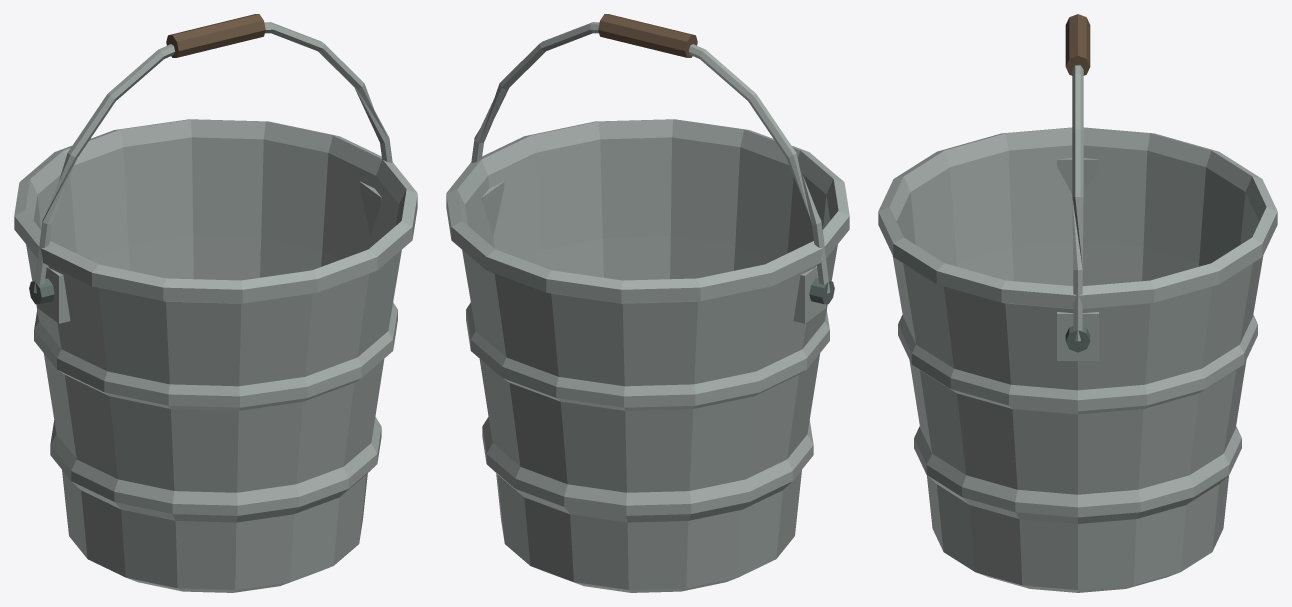
File: galvanized-bucket.glb
3 renders of one model, left to right at view 1: azimuth 30°, elevation 25°; view 2: azimuth 150°, elevation 25°; view 3: azimuth 270°, elevation 25°, orthographic.
Visible parts, largest first — view 1: galvanized-bucket/folded-galvanized-shell, galvanized-bucket/wire-carry-handle, galvanized-bucket/wooden-handle-grip, galvanized-bucket/pressed-handle-mount--1, galvanized-bucket/pressed-handle-mount-1; view 2: galvanized-bucket/folded-galvanized-shell, galvanized-bucket/wire-carry-handle, galvanized-bucket/wooden-handle-grip, galvanized-bucket/pressed-handle-mount--1, galvanized-bucket/pressed-handle-mount-1; view 3: galvanized-bucket/folded-galvanized-shell, galvanized-bucket/wire-carry-handle, galvanized-bucket/pressed-handle-mount-1, galvanized-bucket/wooden-handle-grip, galvanized-bucket/pressed-handle-mount--1.
Part boxes in pixels (box(x1,y1,x2,y2)): galvanized-bucket/folded-galvanized-shell: box(14, 119, 417, 592); galvanized-bucket/wire-carry-handle: box(33, 22, 392, 293); galvanized-bucket/wooden-handle-grip: box(166, 14, 265, 57); galvanized-bucket/pressed-handle-mount--1: box(37, 266, 70, 323); galvanized-bucket/pressed-handle-mount-1: box(359, 181, 381, 235); galvanized-bucket/folded-galvanized-shell: box(446, 119, 849, 592); galvanized-bucket/wire-carry-handle: box(471, 22, 830, 293); galvanized-bucket/wooden-handle-grip: box(598, 14, 697, 57); galvanized-bucket/pressed-handle-mount--1: box(793, 266, 826, 323); galvanized-bucket/pressed-handle-mount-1: box(482, 181, 504, 235); galvanized-bucket/folded-galvanized-shell: box(878, 127, 1277, 592); galvanized-bucket/wire-carry-handle: box(1072, 65, 1083, 341); galvanized-bucket/pressed-handle-mount-1: box(1057, 312, 1098, 360); galvanized-bucket/wooden-handle-grip: box(1065, 14, 1090, 75); galvanized-bucket/pressed-handle-mount--1: box(1057, 158, 1098, 193).
Bounding box in the file's own units: 0.3349 × 0.452 × 0.324.
Materials: 4 (4 with a texture image).
